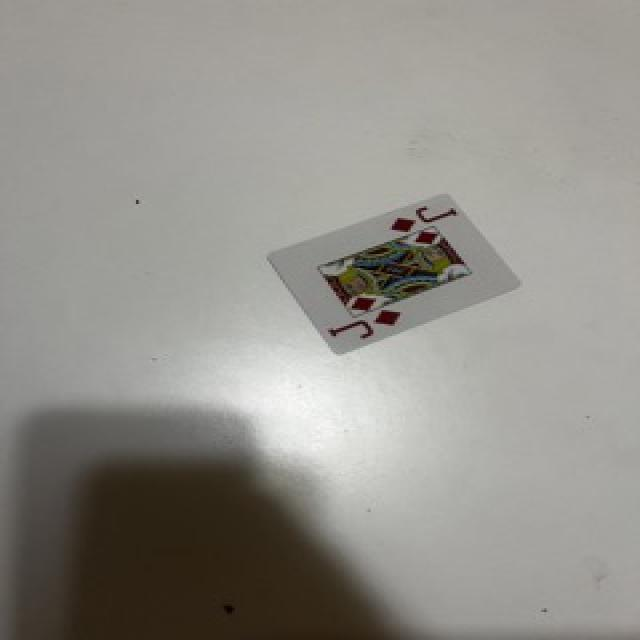Jack of diamonds: (268, 195, 520, 354)
